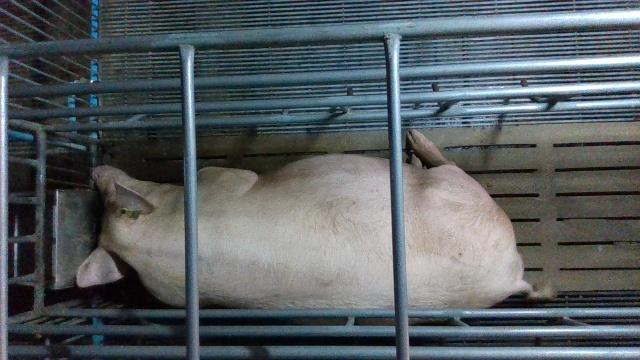sow-sleep: (77, 127, 555, 327)
